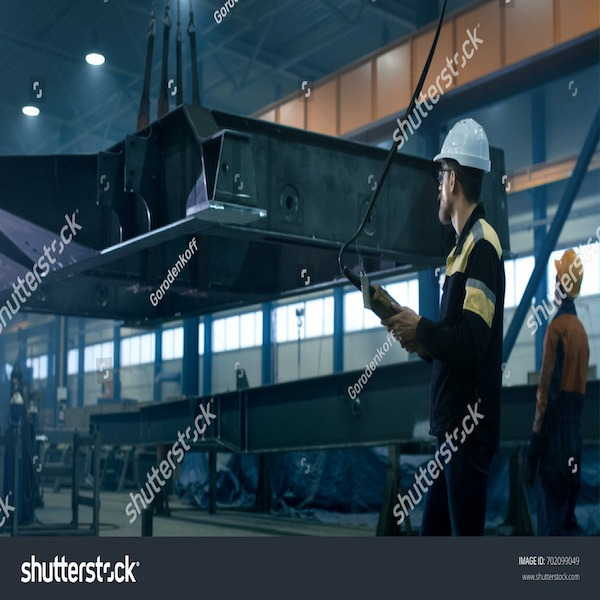helmet: (437, 119, 491, 170)
